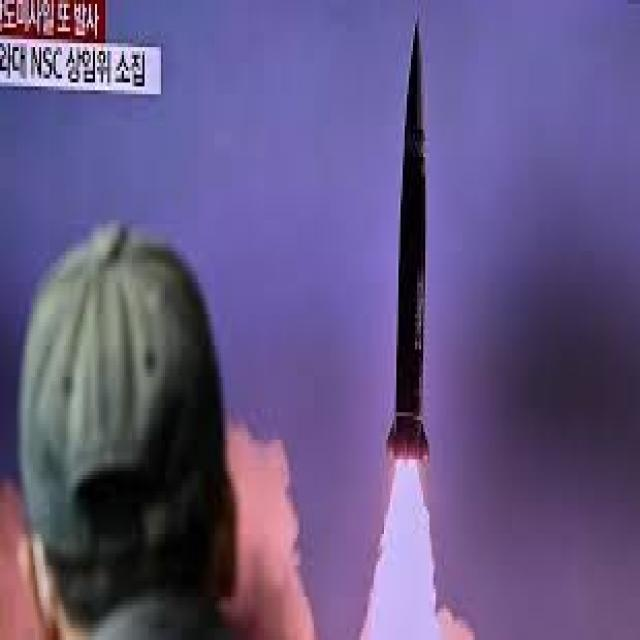Missile: (384, 6, 438, 472)
